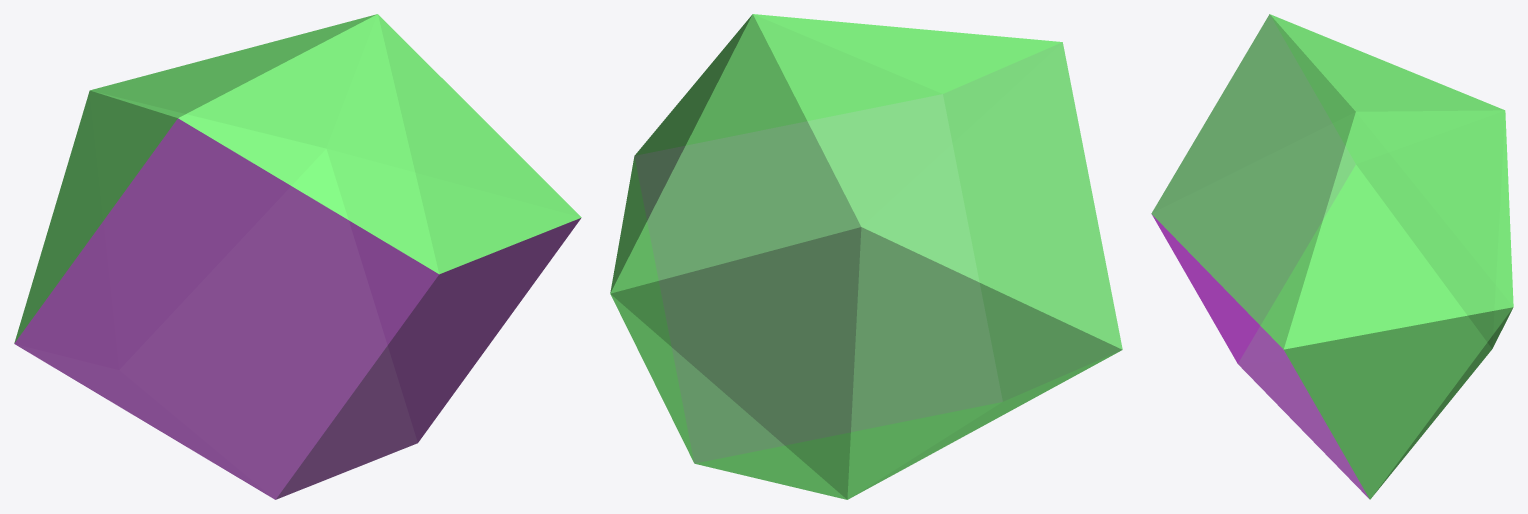
The model's file is j86_sphenocorona.obj.
3 renders of one model, left to right at view 1: azimuth 30°, elevation 25°; view 2: azimuth 150°, elevation 25°; view 3: azimuth 270°, elevation 25°, orthographic. The views are drawn at different scales.
Bounding box in the file's own units: 2.17 × 1.77 × 1.58.
